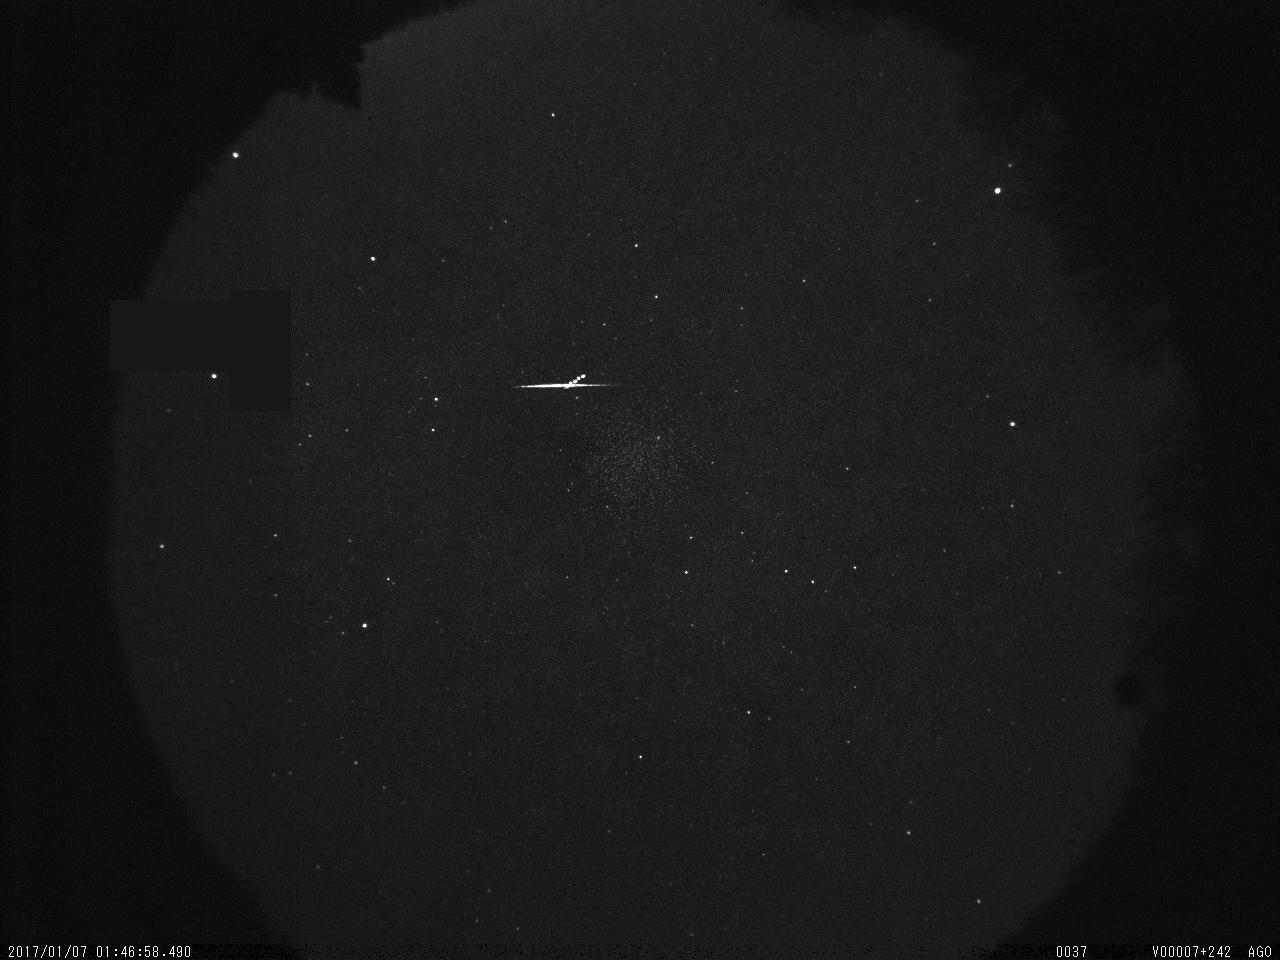meteor: (515, 379, 628, 401)
